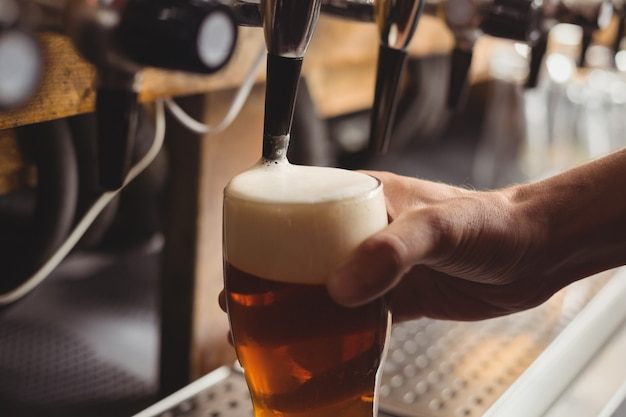alcohol: (222, 163, 396, 417)
